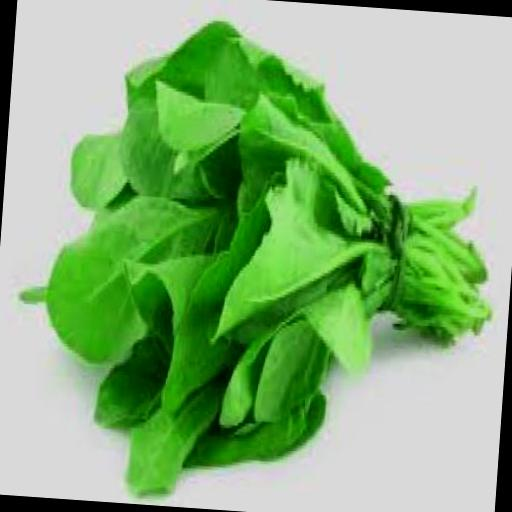biodegradable: (1, 2, 509, 512)
